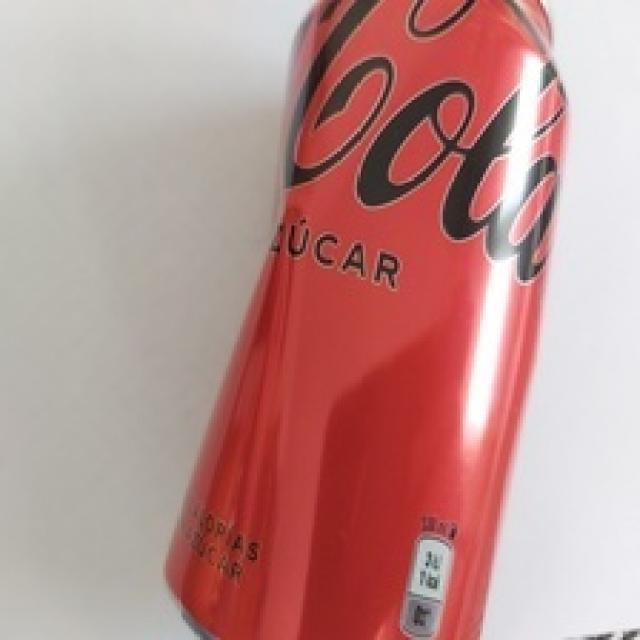recyclable: (168, 0, 568, 640)
